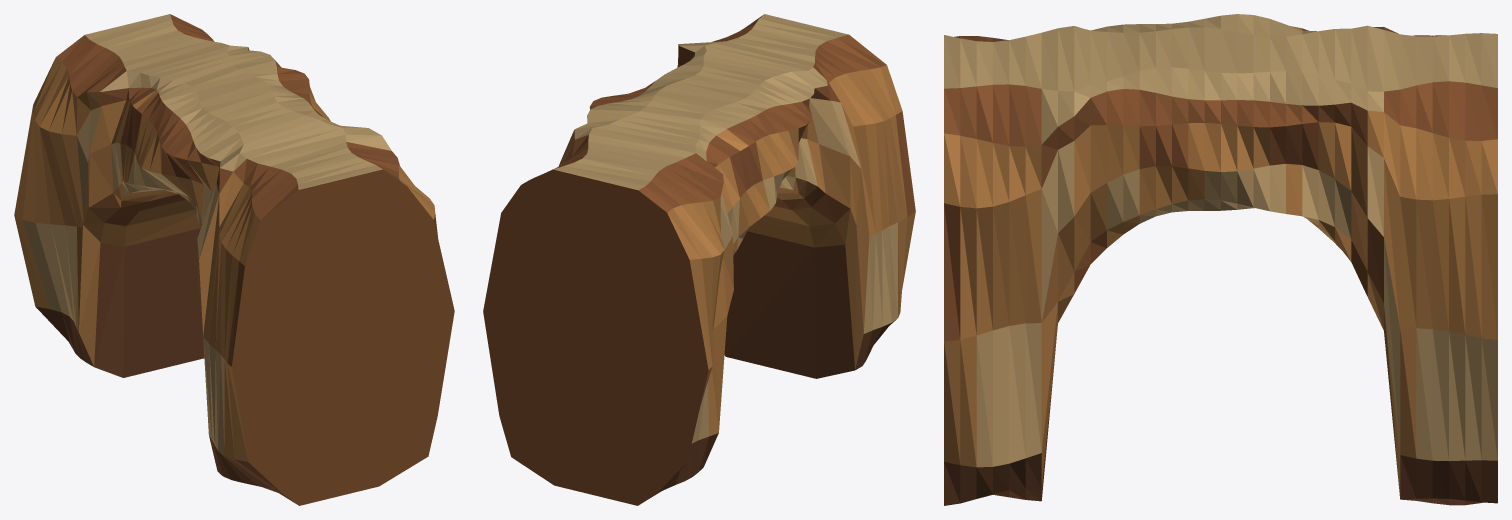
File: gate.glb
The picture shows the model from 3 angles, left to right: view 1: azimuth 30°, elevation 25°; view 2: azimuth 150°, elevation 25°; view 3: azimuth 270°, elevation 25°; orthographic projection. The views are drawn at different scales.
Parts seen in each view (by area): view 1: LT_GATE; view 2: LT_GATE; view 3: LT_GATE.
Part boxes in pixels (x1,y1,x2,y2): LT_GATE: (14,14,454,505); LT_GATE: (483,14,915,505); LT_GATE: (944,14,1497,505).
Size of the model in its own units: 8.92 by 12.12 by 14.4.
